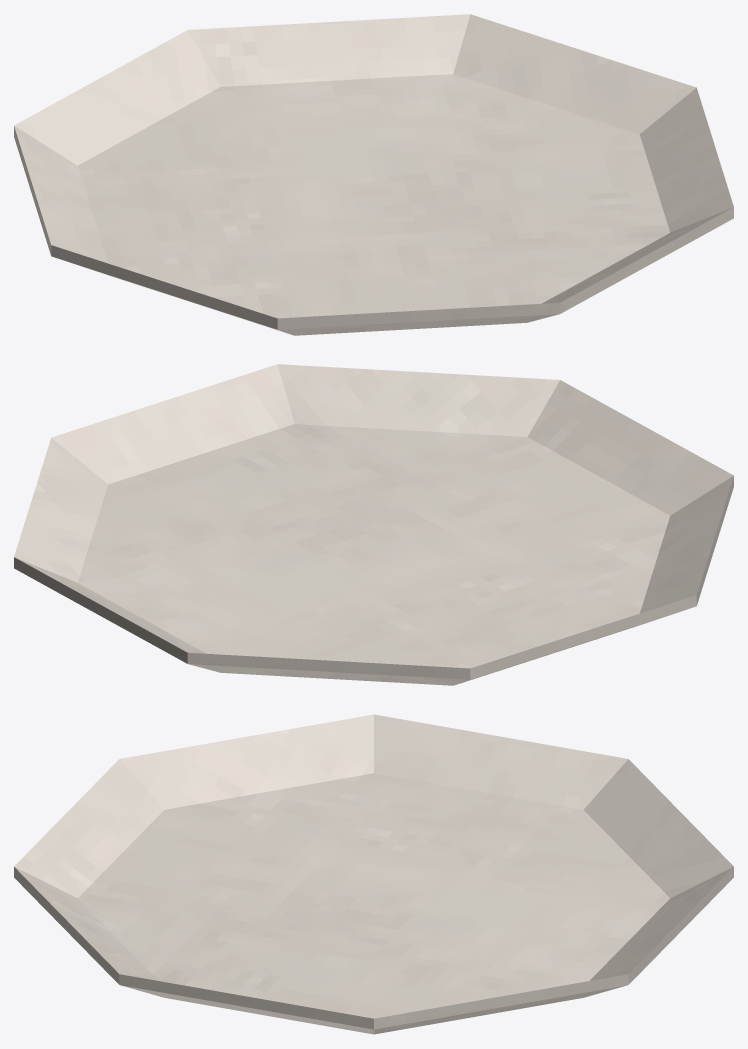
File: plate.glb
The picture shows the model from 3 angles, top to bottom: view 1: azimuth 30°, elevation 25°; view 2: azimuth 150°, elevation 25°; view 3: azimuth 270°, elevation 25°; orthographic projection. The views are drawn at different scales.
Visible parts, largest first — view 1: plate; view 2: plate; view 3: plate.
Boxes of the visible parts, x1=… form: plate: x1=14, y1=14, x2=733, y2=335; plate: x1=14, y1=364, x2=733, y2=685; plate: x1=14, y1=714, x2=733, y2=1034.
Size of the model in its own units: 0.5 by 0.0327 by 0.5.
Materials: 1 (1 with a texture image).
